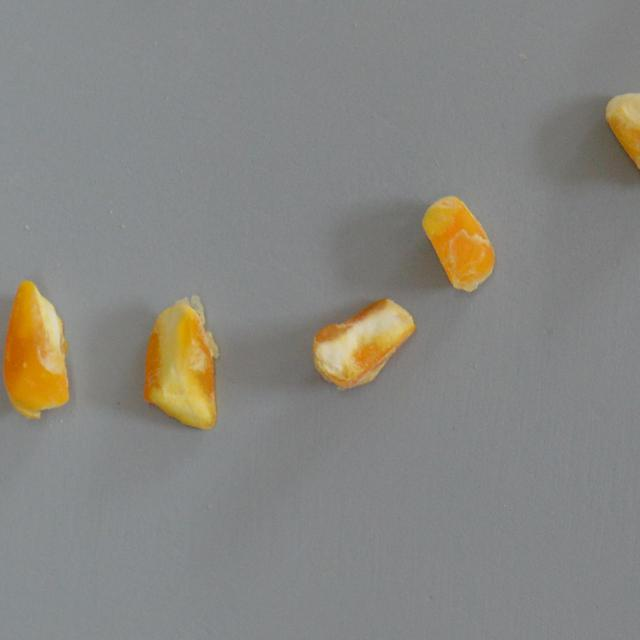estandar: (2, 280, 70, 420)
pelicula: (142, 296, 223, 432), (310, 296, 416, 391), (422, 192, 498, 296), (604, 90, 640, 186)
